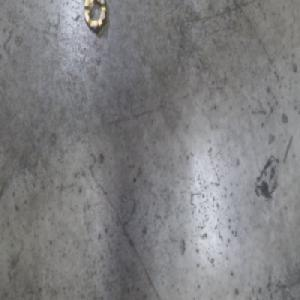Nut: (82, 0, 108, 38)
